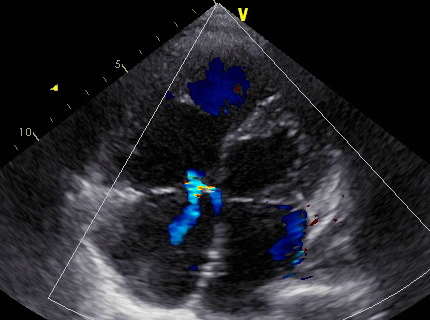TR: (136, 171, 215, 236)
